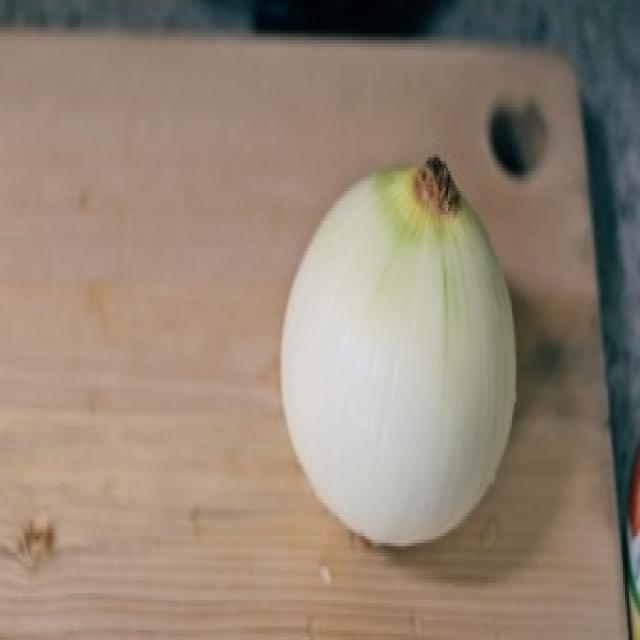onion: (272, 128, 532, 566)
